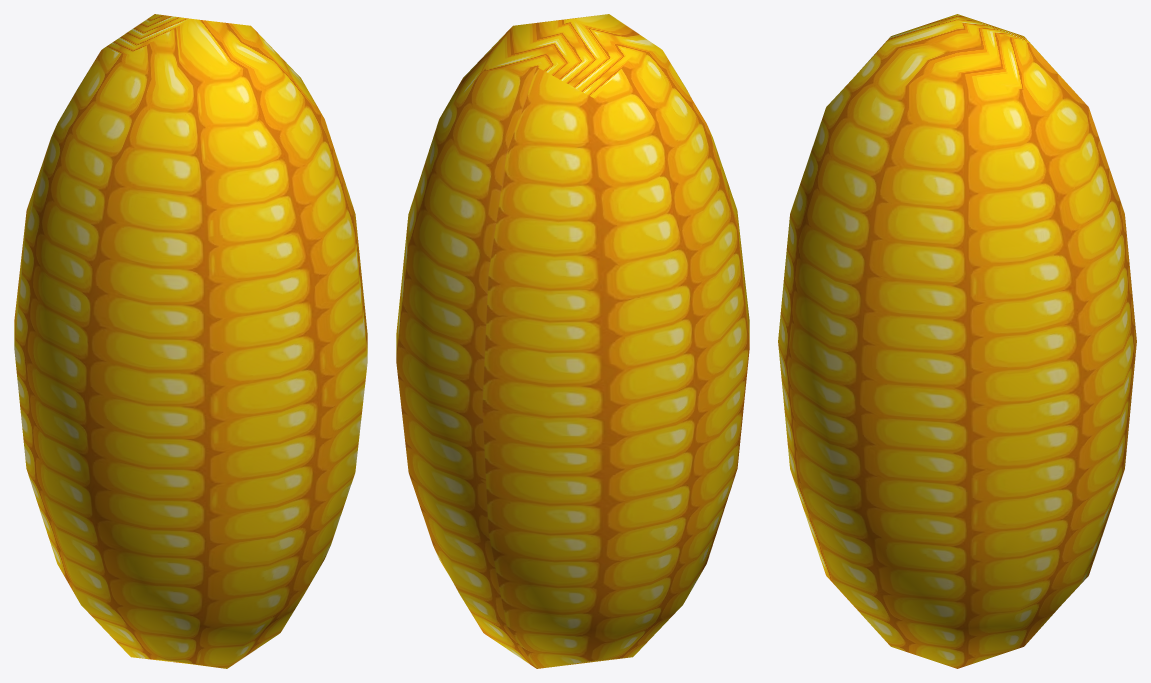
Rendered from CHOCLO_PRP.fbx.
3 views of the same model, side by side, from view 1: azimuth 30°, elevation 25°; view 2: azimuth 150°, elevation 25°; view 3: azimuth 270°, elevation 25° (orthographic).
Parts seen in each view (by area): view 1: CHOCLO_PRP; view 2: CHOCLO_PRP; view 3: CHOCLO_PRP.
Boxes of the visible parts, <box> form: CHOCLO_PRP: <box>14,14,367,668</box>; CHOCLO_PRP: <box>396,14,749,668</box>; CHOCLO_PRP: <box>778,14,1136,668</box>.
Bounding box in the file's own units: 7.57 × 15.5 × 7.88.
Materials: 1 (1 with a texture image).
